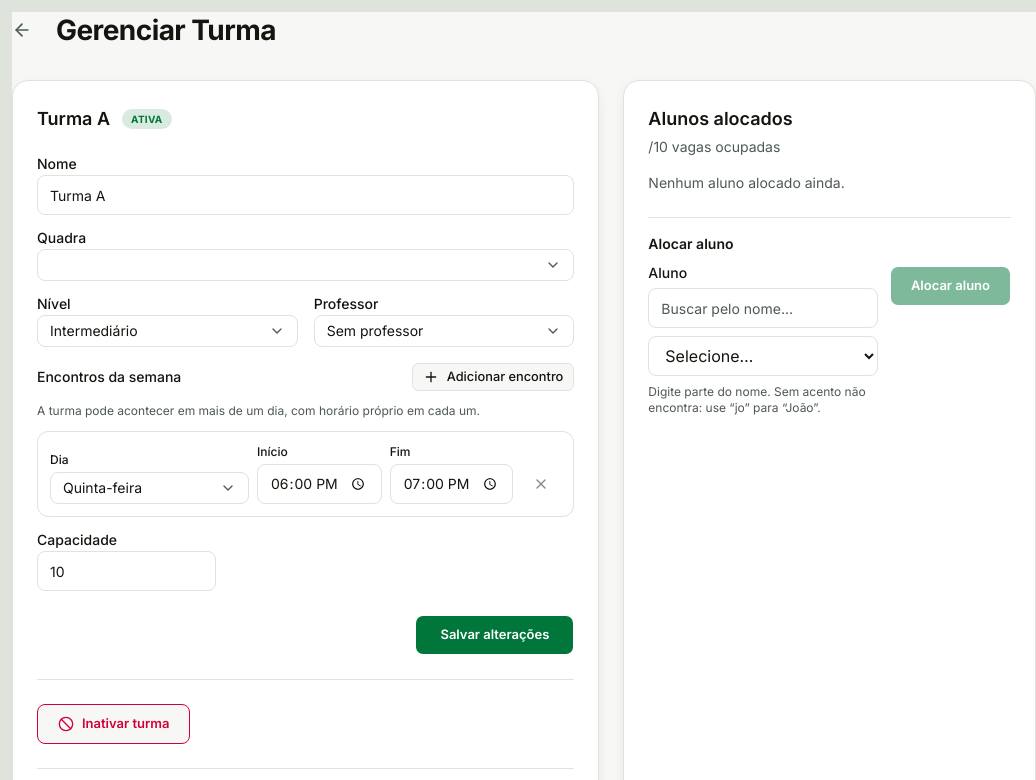
Test case: SPEC-079/AC-006 — editar turma: sem "Sem nível" › o seletor mostra o nível da turma, e as opções são só os níveis do clube
Click the dropdown named "Nível".
click(94, 330)  # box [37,315,298,347]
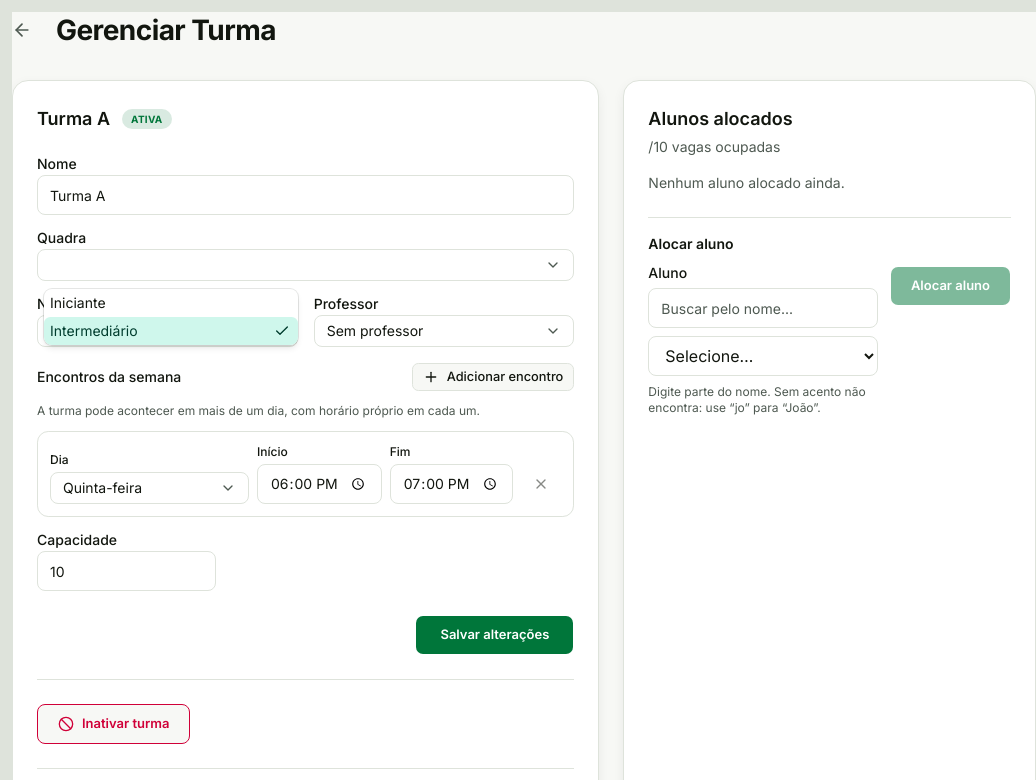
Expected: the options read "Iniciante", "Intermediário", in this order, [50,294,106,311]; [44,317,298,345]
